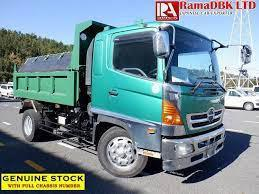Car: (224, 88, 258, 110)
Truck: (13, 19, 227, 177)
